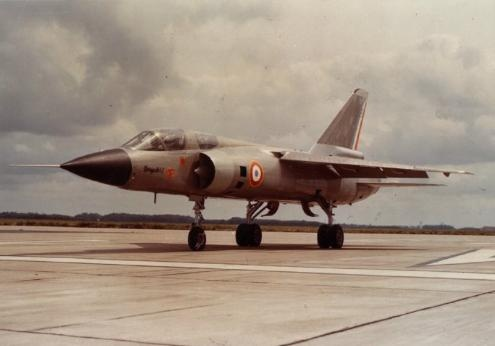airplane: (6, 84, 480, 252)
